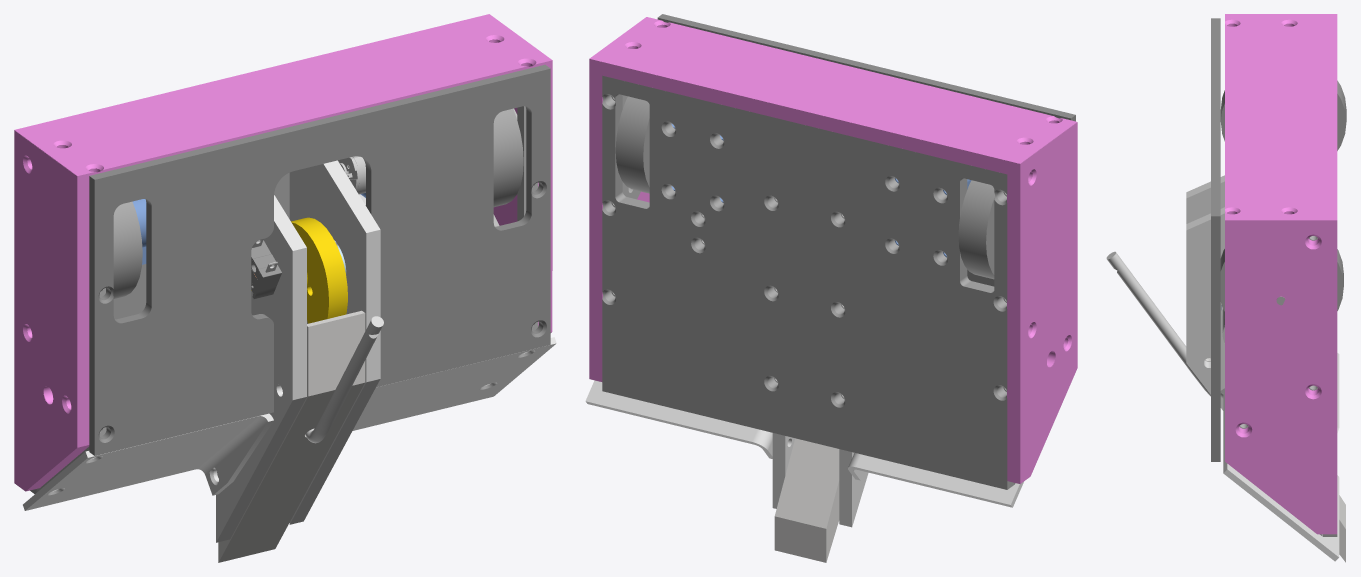
File: lp-opt-old.glb
The picture shows the model from 3 angles, left to right: view 1: azimuth 30°, elevation 25°; view 2: azimuth 150°, elevation 25°; view 3: azimuth 270°, elevation 25°; orthographic projection. The views are drawn at different scales.
Visible parts, largest first — view 1: microswith v3 v4_primitive0 (×2), back wall_primitive0, rail_primitive0, flipper_primitive0, bottom plate_primitive0, Repeat Drive Brushed_primitive0 (×2), Part 6_primitive0; view 2: bottom plate_primitive0, back wall_primitive0, rail_primitive0, flipper_primitive0, microswith v3 v4_primitive0; view 3: back wall_primitive0, rail_primitive0, microswith v3 v4_primitive0 (×2), bottom plate_primitive0, flipper_primitive0.
Part boxes in pixels (x1=…): microswith v3 v4_primitive0 (×2): x1=89, y1=64, x2=550, y2=455; back wall_primitive0: x1=14, y1=14, x2=552, y2=491; rail_primitive0: x1=23, y1=160, x2=556, y2=542; flipper_primitive0: x1=218, y1=310, x2=365, y2=562; bottom plate_primitive0: x1=30, y1=108, x2=523, y2=493; Repeat Drive Brushed_primitive0 (×2): x1=251, y1=156, x2=365, y2=323; Part 6_primitive0: x1=36, y1=106, x2=538, y2=492; bottom plate_primitive0: x1=602, y1=75, x2=1014, y2=489; back wall_primitive0: x1=589, y1=17, x2=1077, y2=483; rail_primitive0: x1=585, y1=197, x2=1023, y2=527; flipper_primitive0: x1=774, y1=438, x2=839, y2=562; microswith v3 v4_primitive0: x1=657, y1=14, x2=1075, y2=286; back wall_primitive0: x1=1225, y1=14, x2=1337, y2=534; rail_primitive0: x1=1186, y1=175, x2=1339, y2=561; microswith v3 v4_primitive0 (×2): x1=1106, y1=18, x2=1220, y2=461; bottom plate_primitive0: x1=1220, y1=80, x2=1346, y2=536; flipper_primitive0: x1=1205, y1=358, x2=1345, y2=562.
Size of the model in its own units: 0.1599 by 0.1557 by 0.0781.
